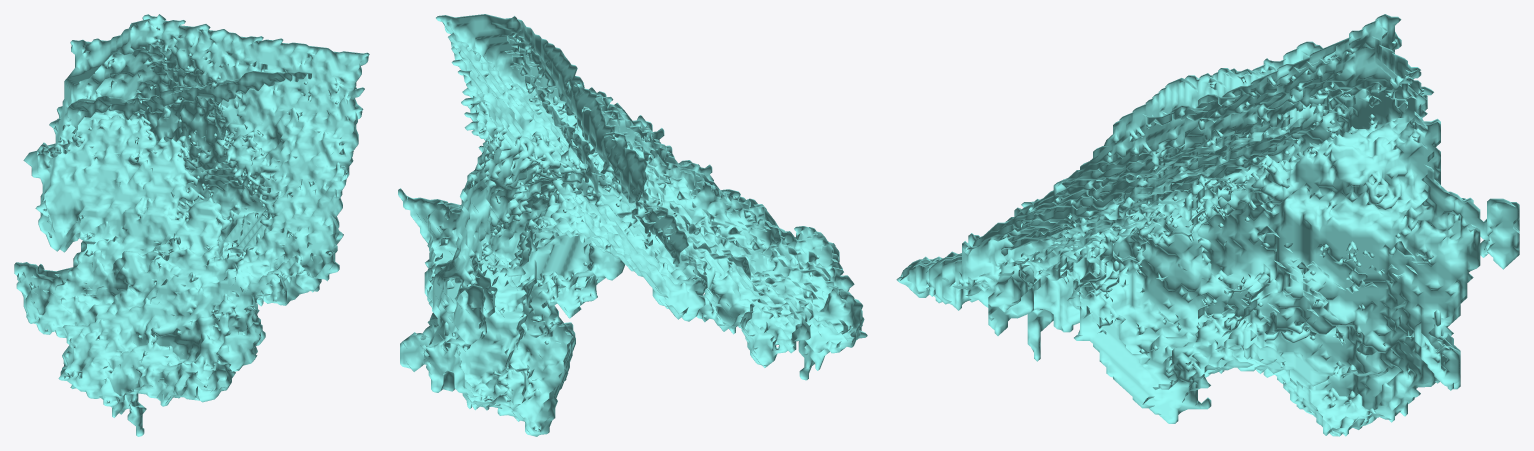
Rendered from osteocyte_76.glb.
The picture shows the model from 3 angles, left to right: view 1: azimuth 30°, elevation 25°; view 2: azimuth 150°, elevation 25°; view 3: azimuth 270°, elevation 25°; orthographic projection. The views are drawn at different scales.
Parts seen in each view (by area): view 1: osteocyte_76; view 2: osteocyte_76; view 3: osteocyte_76.
Boxes of the visible parts, <box> form: osteocyte_76: <box>14,14,369,436</box>; osteocyte_76: <box>398,14,867,436</box>; osteocyte_76: <box>896,14,1519,436</box>.
Bounding box in the file's own units: 39 × 31.3 × 45.74.
